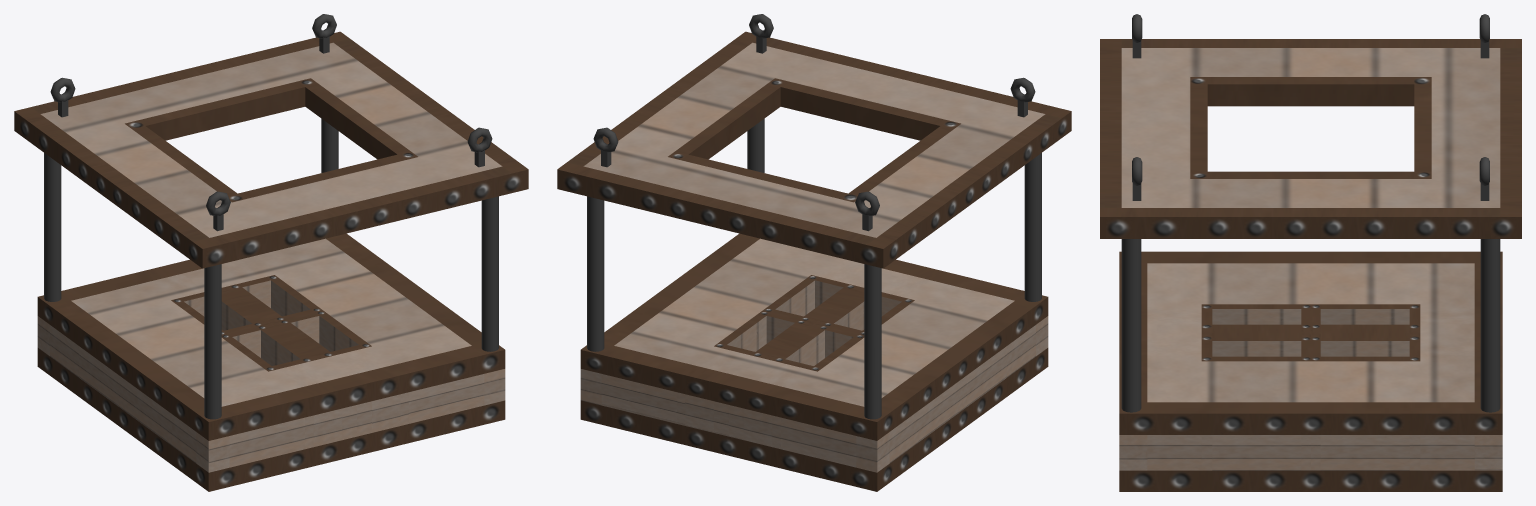
The model's file is BalloonBasket.fbx.
The picture shows the model from 3 angles, left to right: view 1: azimuth 30°, elevation 25°; view 2: azimuth 150°, elevation 25°; view 3: azimuth 270°, elevation 25°; orthographic projection. The views are drawn at different scales.
Parts seen in each view (by area): view 1: Base, Roof, Support3, Support4, Support2, Support1, Hook4, Hook3, Hook2, Hook1; view 2: Base, Roof, Support2, Support1, Support3, Support4, Hook4, Hook3, Hook2, Hook1; view 3: Base, Roof, Support1, Support4, Hook4, Hook1.
Part boxes in pixels (box(x1,y1,x2,y2)): Base: box(37, 233, 505, 491); Roof: box(14, 31, 528, 268); Support3: box(204, 264, 221, 419); Support4: box(481, 196, 498, 351); Support2: box(44, 153, 61, 301); Support1: box(321, 118, 338, 172); Hook4: box(206, 191, 230, 231); Hook3: box(467, 127, 492, 167); Hook2: box(312, 14, 336, 53); Hook1: box(50, 77, 75, 117); Base: box(580, 233, 1048, 491); Roof: box(557, 31, 1071, 268); Support2: box(864, 264, 881, 419); Support1: box(587, 196, 604, 351); Support3: box(1024, 153, 1041, 301); Support4: box(747, 118, 764, 172); Hook4: box(1010, 77, 1035, 117); Hook3: box(749, 14, 773, 53); Hook2: box(593, 127, 618, 167); Hook1: box(855, 191, 879, 231); Base: box(1119, 251, 1502, 491); Roof: box(1100, 39, 1521, 238); Support1: box(1480, 239, 1500, 412); Support4: box(1121, 239, 1141, 412); Hook4: box(1132, 14, 1142, 58); Hook1: box(1479, 14, 1489, 58).
Size of the model in its own units: 11 by 9.35 by 11.
